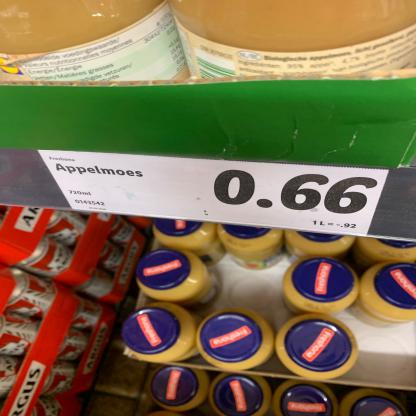prtg: (38, 151, 391, 238)
